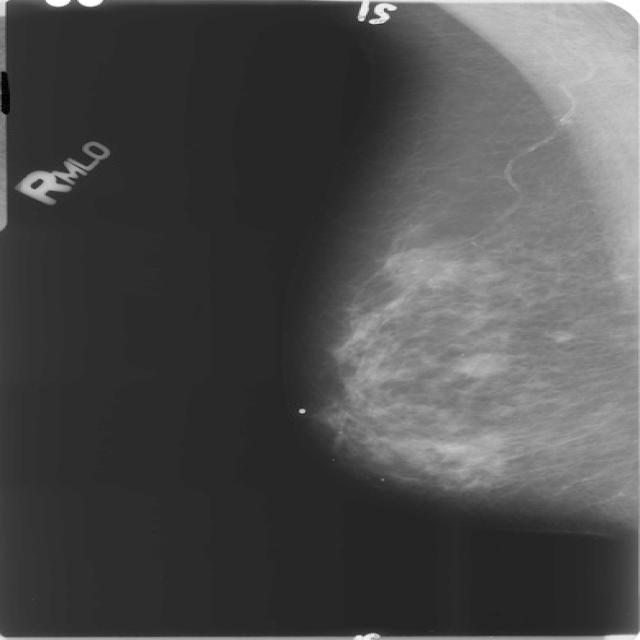tumour: (452, 352, 511, 376)
